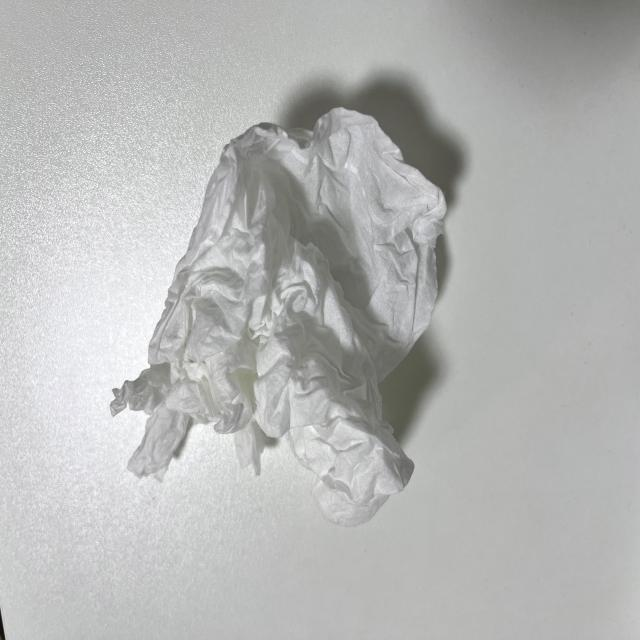Paper: (108, 105, 460, 525)
